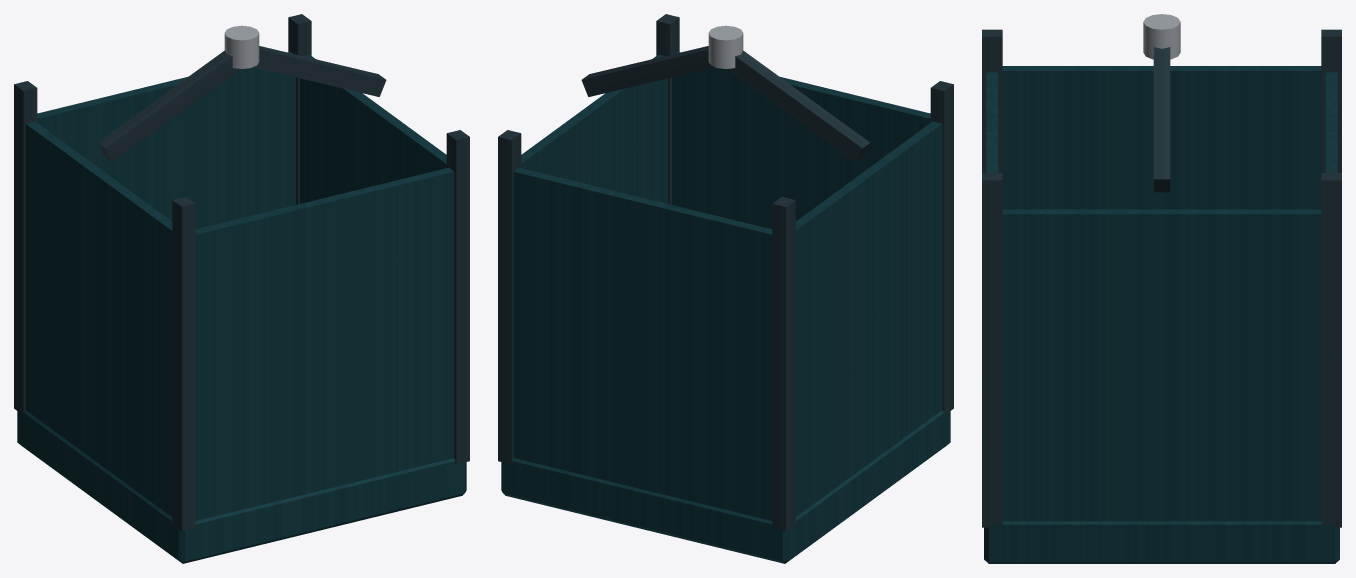
Rendered from mine-hoist-container.glb.
The picture shows the model from 3 angles, left to right: view 1: azimuth 30°, elevation 25°; view 2: azimuth 150°, elevation 25°; view 3: azimuth 270°, elevation 25°; orthographic projection. The views are drawn at different scales.
Visible parts, largest first — view 1: hoist-container__Core_machine, hoist-container__Core_steel, hoist-container__Core_machined; view 2: hoist-container__Core_machine, hoist-container__Core_steel, hoist-container__Core_machined; view 3: hoist-container__Core_machine, hoist-container__Core_steel, hoist-container__Core_machined.
Part boxes in pixels (left/top/right/bottom): hoist-container__Core_machine: left=17, top=52, right=466, bottom=563; hoist-container__Core_steel: left=14, top=14, right=469, bottom=531; hoist-container__Core_machined: left=224, top=25, right=259, bottom=68; hoist-container__Core_machine: left=501, top=52, right=950, bottom=563; hoist-container__Core_steel: left=498, top=14, right=953, bottom=531; hoist-container__Core_machined: left=708, top=25, right=743, bottom=68; hoist-container__Core_machine: left=984, top=66, right=1339, bottom=563; hoist-container__Core_steel: left=982, top=29, right=1341, bottom=527; hoist-container__Core_machined: left=1143, top=14, right=1180, bottom=59.
Bounding box in the file's own units: 1.05 × 1.52 × 1.06.
Materials: 3 (2 with a texture image).
